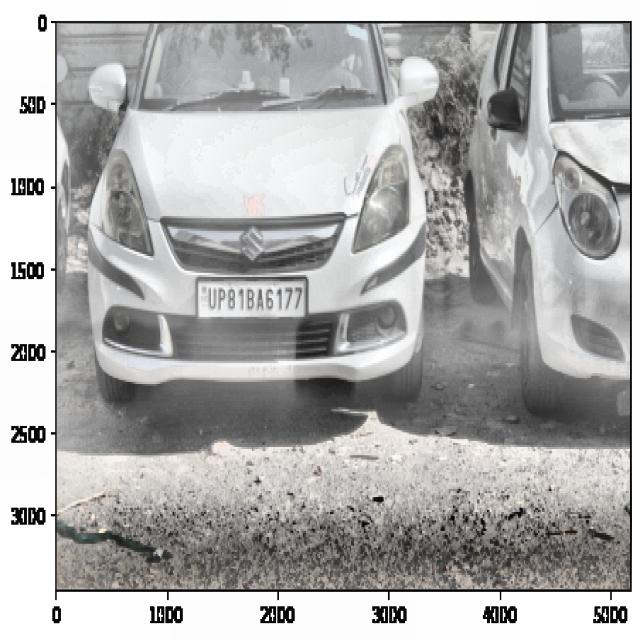license_plate: (199, 277, 311, 321)
